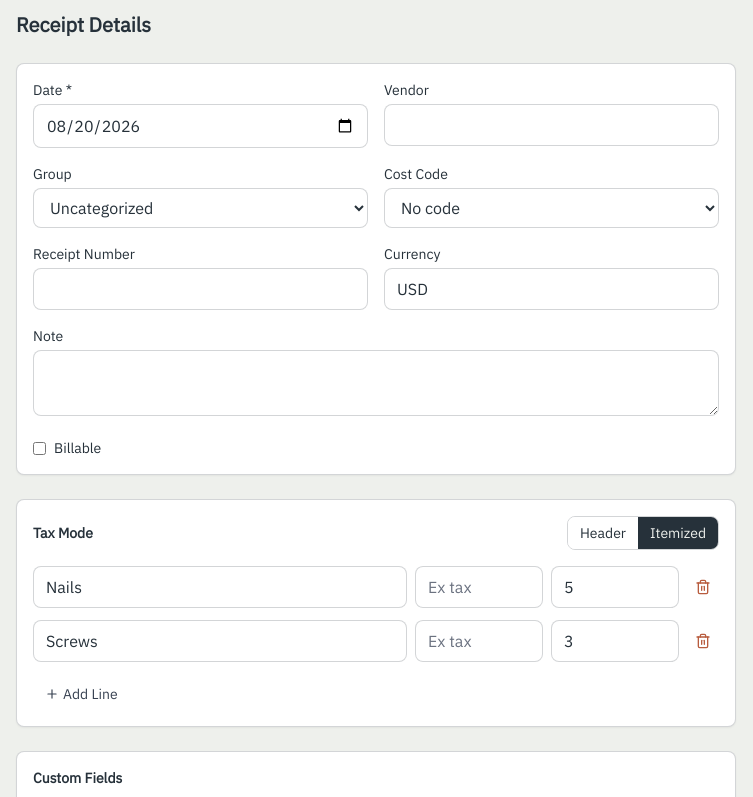
Test case: ReceiptForm › switching back to header mode collapses to a single line item
Expected: the field labelled "Vendor" is shown, x1=384 y1=104 x2=719 y2=146
Expected: the number of fields with placeholder "Description" is 2, x1=33 y1=566 x2=407 y2=608; x1=33 y1=620 x2=407 y2=662
Click the button "Header".
click(603, 533)  # box x1=568 y1=517 x2=638 y2=549
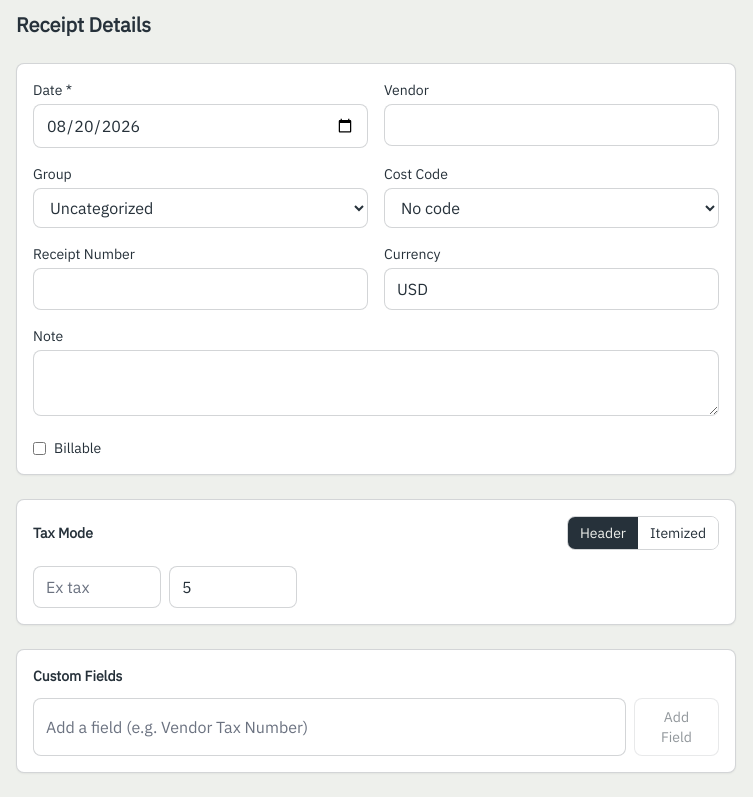
Expected: the number field named "Amount inc tax" holds "5", x1=169 y1=566 x2=297 y2=608
Expected: the field with placeholder "Description" is gone
